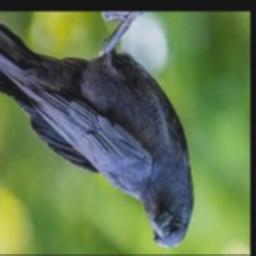Crow: (0, 13, 195, 249)
